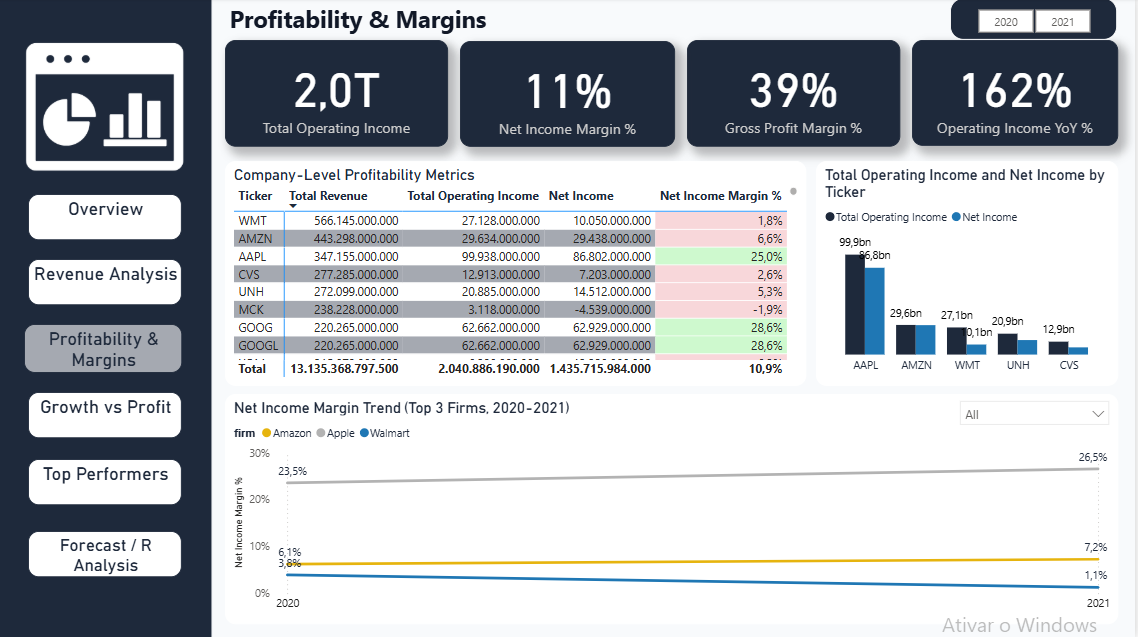

The dashboard page shown, as its layout file describes it:
{"tool":"powerbi","page":{"name":"Profitability & Margins","canvas":[1280,720],"ordinal":2},"visuals":[{"type":"card","title":"Top 10 YoY Revenue Growth","fields":{"Values":["#Measures.Operating Income"]},"box":[255.4,47.2,250.9,120.4],"z":0},{"type":"card","title":"Top 10 YoY Revenue Growth","fields":{"Values":["#Measures.Gross Profit Margin %"]},"box":[774.9,47.2,240,120.4],"z":1000},{"type":"card","title":"Top 10 YoY Revenue Growth","fields":{"Values":["#Measures.Operating Income YoY %"]},"box":[1028.2,47.2,231.8,119.2],"z":2000},{"type":"actionButton","title":"Profitability & Margins","box":[29.5,366.2,177.8,55.1],"z":2000,"group":"g1"},{"type":"card","title":"Top 10 YoY Revenue Growth","fields":{"Values":["#Measures.Net Income Margin %"]},"box":[519.6,48.4,241.9,119.2],"z":3000},{"type":"lineChart","title":"Net Income Margin Trend (Top 3 Firms, 2020-2021)","fields":{"Category":["DimCalendar.Year"],"Y":["#Measures.Net Income Margin %"],"Series":["FinancialData.firm"]},"box":[255.1,445.5,1005.3,258.5],"z":4000},{"type":"actionButton","title":"Forecast / R Analysis","box":[33.8,599.6,173.2,51.8],"z":5000},{"type":"actionButton","title":"Top Performers","box":[33.8,518.6,173.2,51.8],"z":6000},{"type":"actionButton","title":"Growth vs Profit","box":[33.8,443.2,173.2,51.8],"z":7000},{"type":"actionButton","title":"Profitability & Margins","box":[33.8,367.9,173.2,51.8],"z":8000},{"type":"actionButton","title":"Revenue Analysis","box":[33.8,293.6,173.2,51.8],"z":9000},{"type":"actionButton","title":"Overview","box":[33.8,220.5,173.2,51.8],"z":10000},{"type":"group","id":"g1","title":"Active Buttons","box":[29.5,220.5,177.8,430.6],"z":11000},{"type":"clusteredColumnChart","fields":{"Y":["#Measures.Total Operating Income","#Measures.Net Income"],"Category":["FinancialData.Ticker"]},"box":[919.9,183.5,340.5,252.8],"z":12000},{"type":"pivotTable","title":"Company-Level Profitability Metrics","fields":{"Rows":["FinancialData.Ticker"],"Values":["#Measures.Total Revenue","#Measures.Total Operating Income","#Measures.Net Income","#Measures.Net Income Margin %"]},"box":[255.1,183.5,654.4,252.8],"z":13000},{"type":"textbox","box":[255.1,0,300.1,65.8],"z":14000},{"type":"slicer","fields":{"Values":["DimCalendar.Year"]},"box":[1071.1,0,188.1,47.3],"z":15000},{"type":"slicer","fields":{"Values":["FinancialData.Ticker"]},"box":[1072.2,443.2,188.1,49.6],"z":16000}]}

Visuals, with their boxes in screenshot pixels (x1, y1, x2, y2), scaled from the page's 1280x720 canvas onto the 1138x637 screenshot:
"Top 10 YoY Revenue Growth" card: [227,42,450,148]
"Top 10 YoY Revenue Growth" card: [689,42,902,148]
"Top 10 YoY Revenue Growth" card: [914,42,1120,147]
"Profitability & Margins" actionButton: [26,324,184,373]
"Top 10 YoY Revenue Growth" card: [462,43,677,148]
"Net Income Margin Trend (Top 3 Firms, 2020-2021)" lineChart: [227,394,1121,623]
"Forecast / R Analysis" actionButton: [30,530,184,576]
"Top Performers" actionButton: [30,459,184,505]
"Growth vs Profit" actionButton: [30,392,184,438]
"Profitability & Margins" actionButton: [30,325,184,371]
"Revenue Analysis" actionButton: [30,260,184,306]
"Overview" actionButton: [30,195,184,241]
"Active Buttons" group: [26,195,184,576]
clusteredColumnChart - #Measures.Total Operating Income x #Measures.Net Income: [818,162,1121,386]
"Company-Level Profitability Metrics" pivotTable: [227,162,809,386]
textbox: [227,0,494,58]
slicer - DimCalendar.Year: [952,0,1120,42]
slicer - FinancialData.Ticker: [953,392,1120,436]
